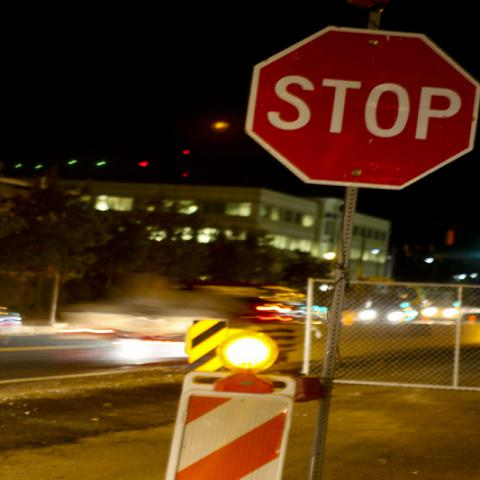car: (356, 285, 423, 324), (425, 295, 479, 324)
